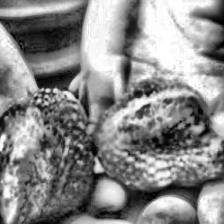Gray Mold: (91, 77, 224, 190), (0, 91, 87, 224)
